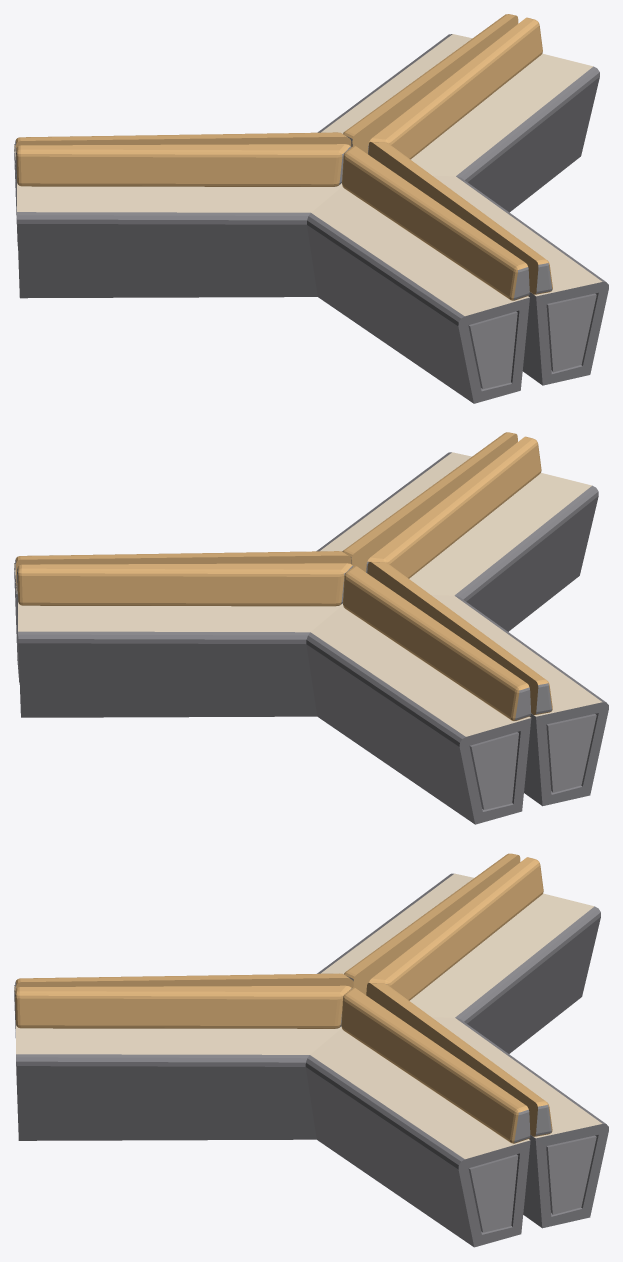
The model's file is Triangle_sofa.fbx.
The picture shows the model from 3 angles, top to bottom: view 1: azimuth 30°, elevation 25°; view 2: azimuth 150°, elevation 25°; view 3: azimuth 270°, elevation 25°; orthographic projection.
Visible parts, largest first — view 1: Triangle_sofa; view 2: Triangle_sofa; view 3: Triangle_sofa.
Part boxes in pixels (box(x1,y1,x2,y2)): Triangle_sofa: box(14, 14, 608, 403); Triangle_sofa: box(14, 432, 608, 824); Triangle_sofa: box(14, 853, 608, 1247).
Size of the model in its own units: 367 by 75.66 by 319.
